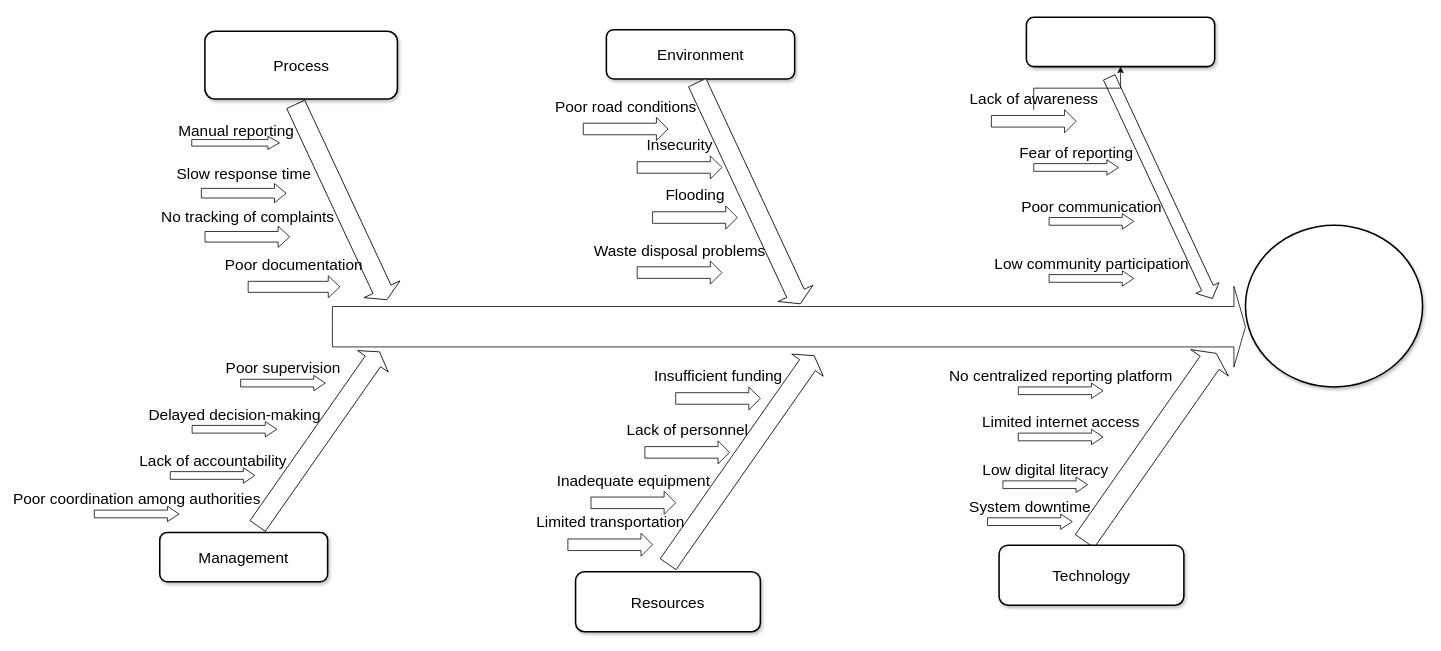
Some shapes in this 1441 by 651 pixel diagram are drawn without their labels. The shapes that lost their labels are listed below. From the top down, each one's centre as x and y in pixels, then its label:
[1121,42]: People
[1334,307]: Inefficient Reporting and Resolution of Community Issues
